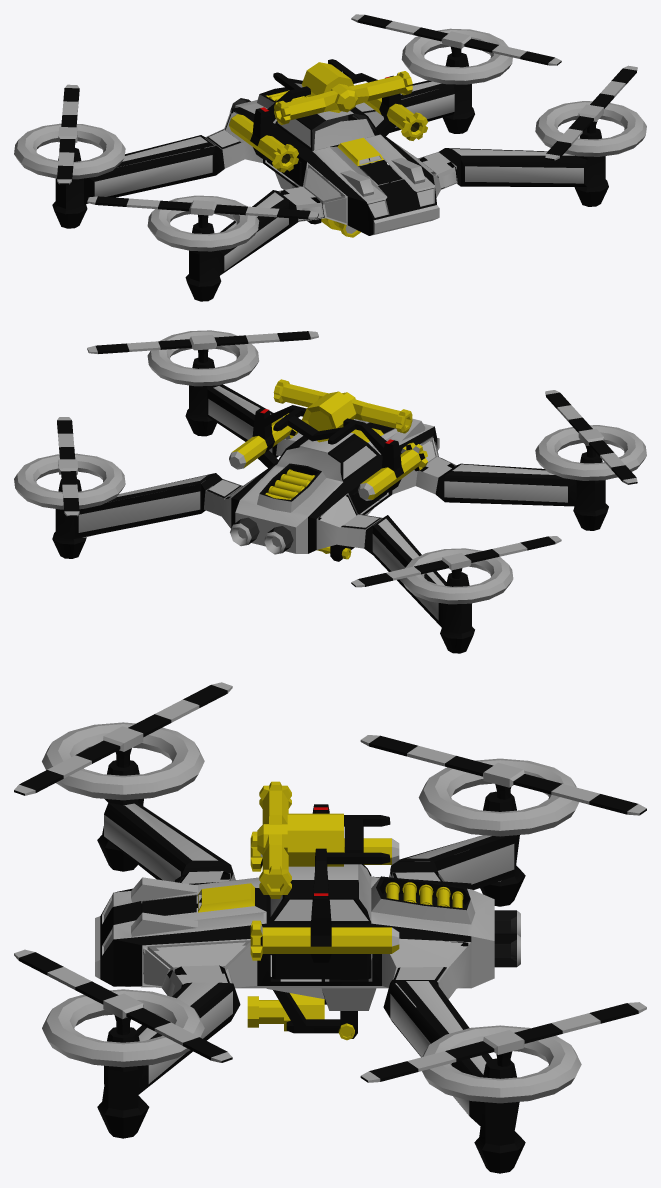
File: Drone.obj
The picture shows the model from 3 angles, top to bottom: view 1: azimuth 30°, elevation 25°; view 2: azimuth 150°, elevation 25°; view 3: azimuth 270°, elevation 25°; orthographic projection. The views are drawn at different scales.
Parts seen in each view (by area): view 1: _1, object 1, _4, _5, _3; view 2: _1, object 1, _4, _5, _3; view 3: _1, object 1, _4, _5, _3.
Part boxes in pixels (x1=…): _1: x1=14, y1=14, x2=646, y2=270; object 1: x1=52, y1=15, x2=636, y2=301; _4: x1=229, y1=62, x2=427, y2=237; _5: x1=277, y1=114, x2=433, y2=217; _3: x1=230, y1=98, x2=419, y2=163; _1: x1=14, y1=330, x2=646, y2=620; object 1: x1=52, y1=331, x2=637, y2=653; _4: x1=232, y1=379, x2=427, y2=559; _5: x1=277, y1=436, x2=433, y2=479; _3: x1=233, y1=517, x2=293, y2=552; _1: x1=14, y1=682, x2=646, y2=1115; object 1: x1=14, y1=685, x2=646, y2=1173; _4: x1=198, y1=781, x2=463, y2=1040; _5: x1=104, y1=864, x2=370, y2=952; _3: x1=266, y1=895, x2=516, y2=967.
Size of the model in its own units: 3.72 by 1.01 by 2.63.
